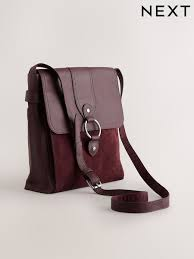bag: (19, 59, 167, 205)
